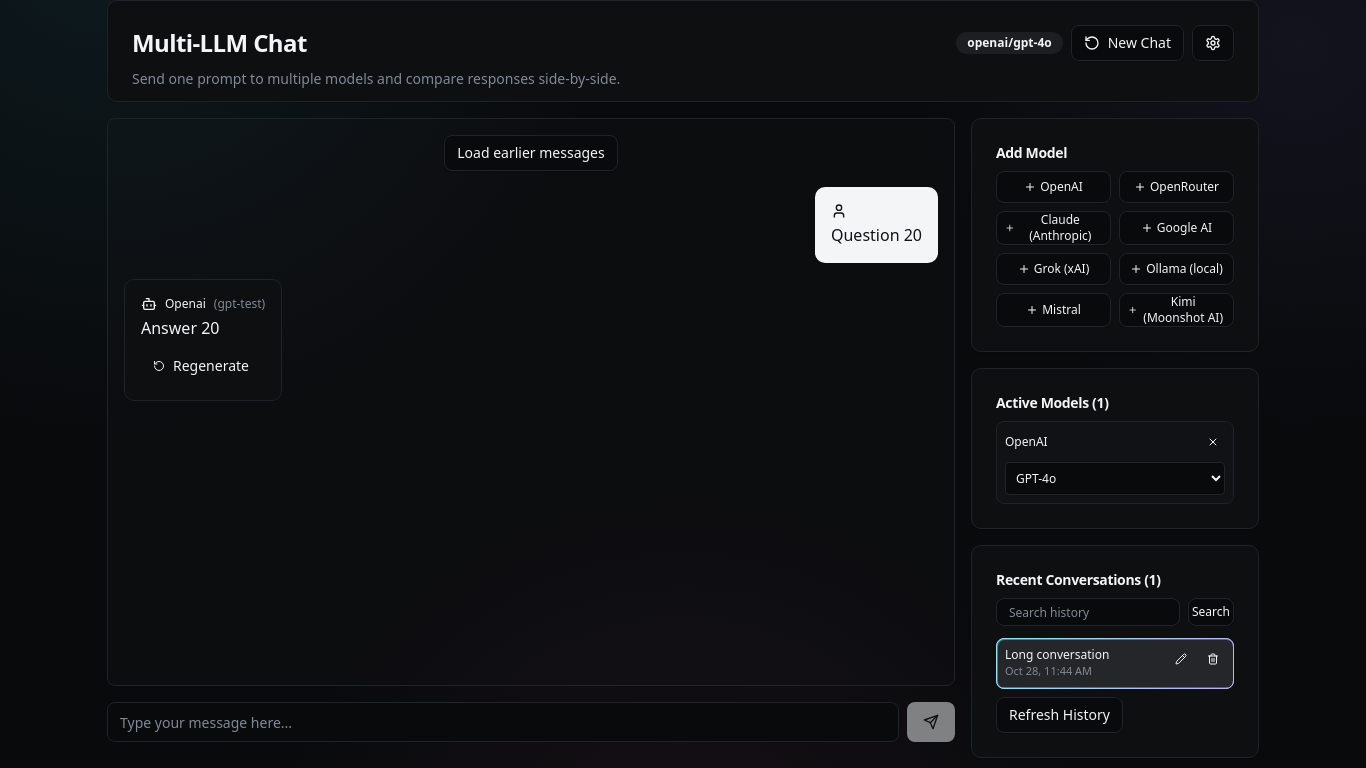
Test: MultiChatPage provider model picker › loads older turns on demand, keeps loaded history when a page fails, and retries
Expected: the text "Answer 20" is shown, [141,317,220,339]
Click the button "Load earlier messages".
click(531, 153)  # box [444,135,618,171]
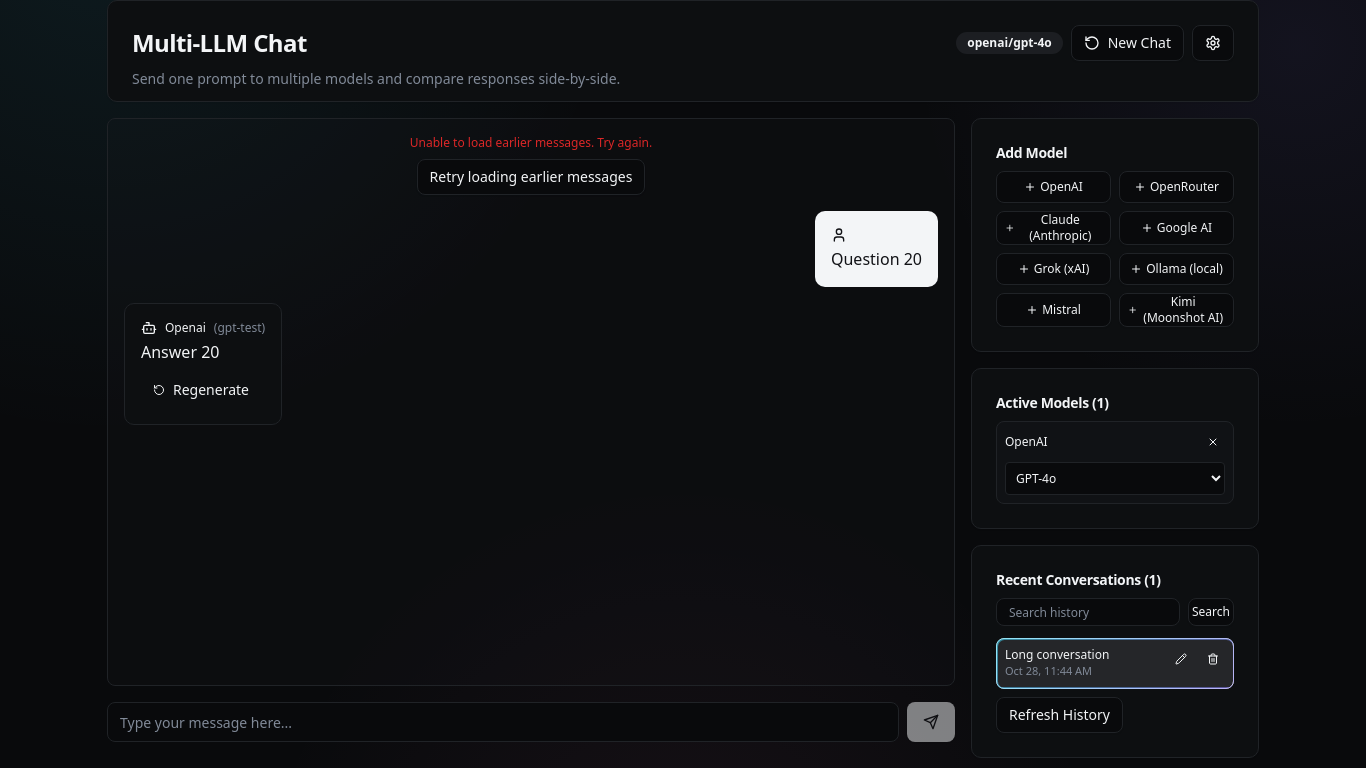
Expected: the text "Answer 20" is shown, [141,341,220,363]
Now the message shows "Unable to load earlier messages", box [410,134,652,151]
Click the button "Retry loading earlier messages".
click(531, 177)  # box [417,159,645,195]
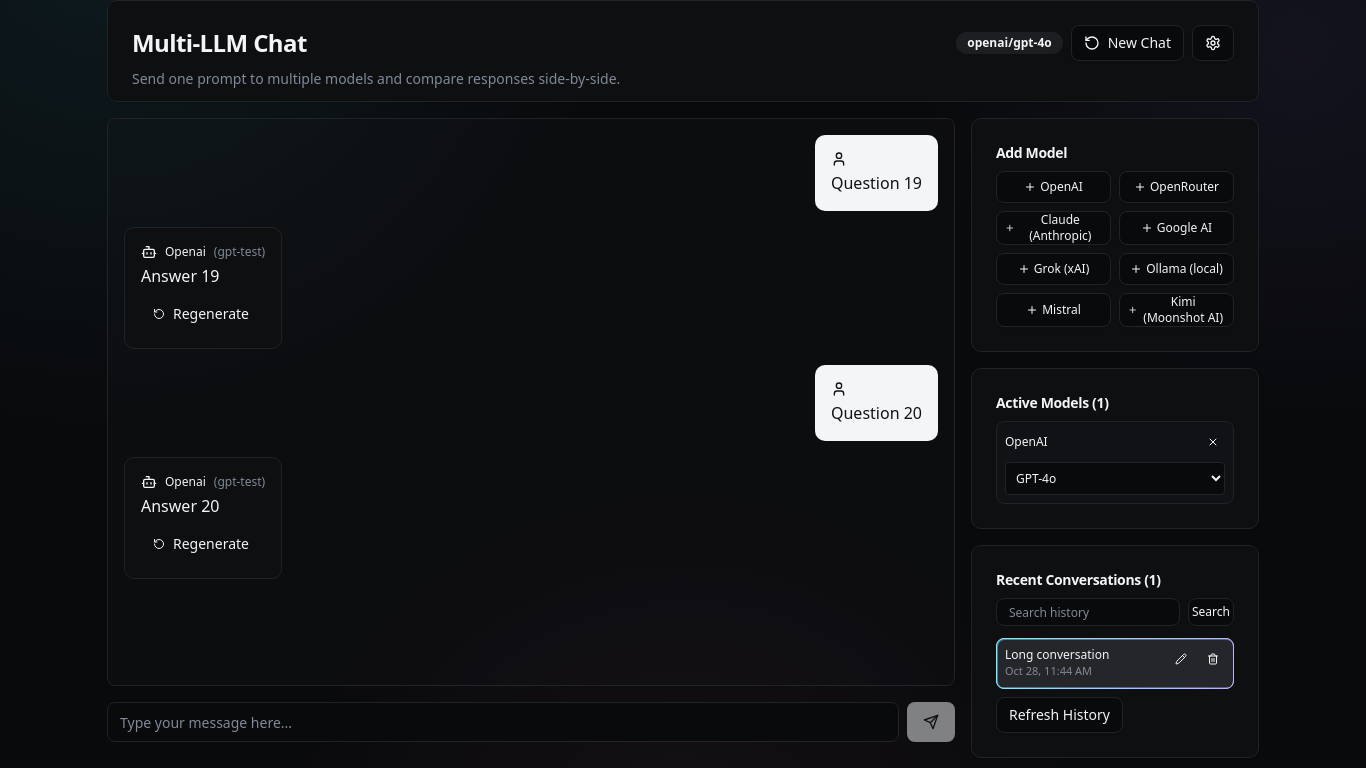
Expected: the text "Answer 20" is shown, [141,495,220,517]
Now the text "Question 19" is shown, box [831,171,922,195]
Now the message "earlier messages" is gone
